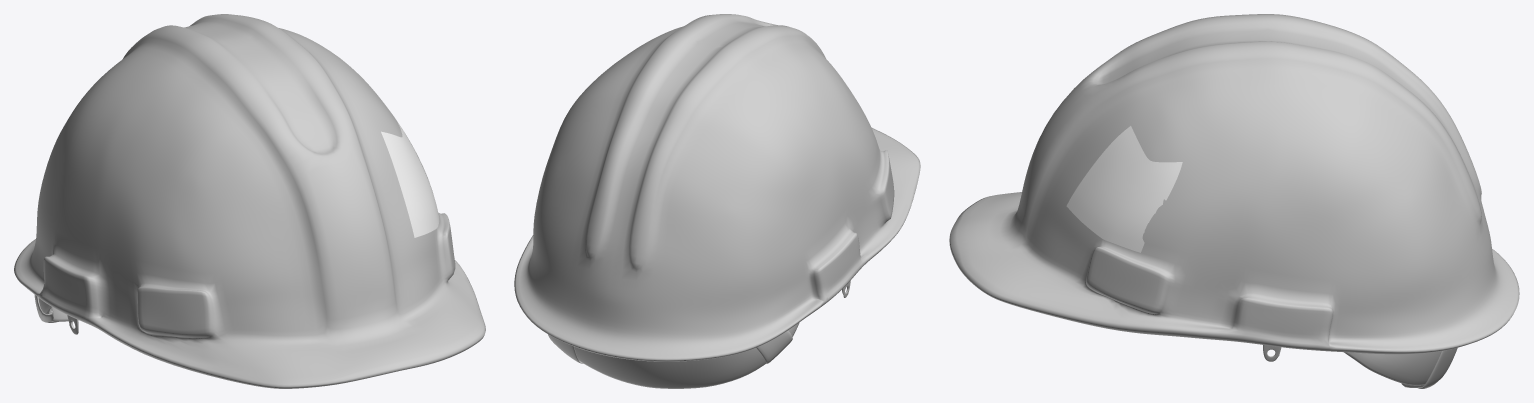
Rendered from WJ_AnQuanMao_v2.FBX.
3 views of the same model, side by side, from view 1: azimuth 30°, elevation 25°; view 2: azimuth 150°, elevation 25°; view 3: azimuth 270°, elevation 25° (orthographic). The views are drawn at different scales.
Parts seen in each view (by area): view 1: WJ_AnQuanMao_v2; view 2: WJ_AnQuanMao_v2; view 3: WJ_AnQuanMao_v2.
Boxes of the visible parts, box(x1,y1,x2,y2) form: WJ_AnQuanMao_v2: box(14, 14, 485, 388); WJ_AnQuanMao_v2: box(514, 14, 920, 388); WJ_AnQuanMao_v2: box(949, 14, 1519, 388).
Size of the model in its own units: 17.66 by 16.58 by 26.31.
